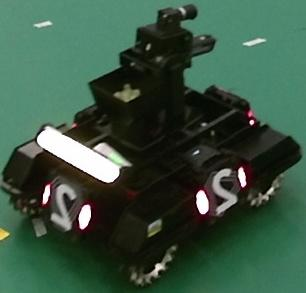armor_2: (195, 167, 247, 213), (42, 185, 92, 229)
back_2: (50, 176, 81, 232)
light: (37, 125, 122, 184)
right_2: (205, 169, 242, 216)
